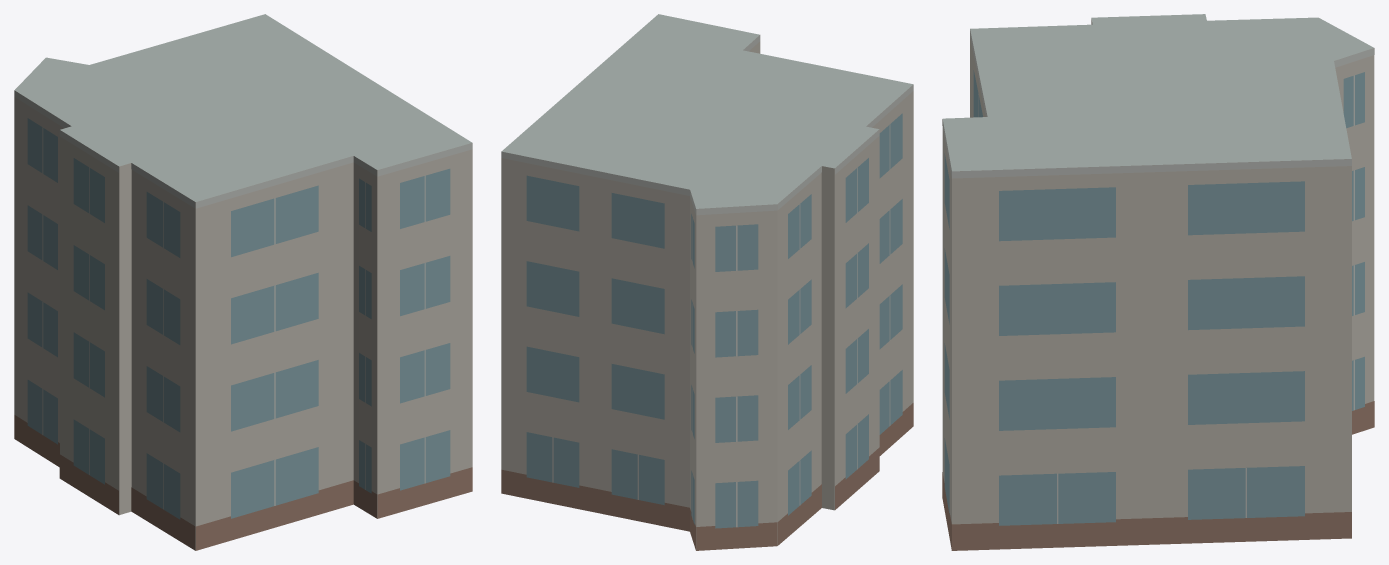
The model's file is survey-upis-32475010.glb.
3 views of the same model, side by side, from view 1: azimuth 30°, elevation 25°; view 2: azimuth 150°, elevation 25°; view 3: azimuth 270°, elevation 25° (orthographic). The views are drawn at different scales.
Parts seen in each view (by area): view 1: survey-upis-32475010.tmp; view 2: survey-upis-32475010.tmp; view 3: survey-upis-32475010.tmp.
Boxes of the visible parts, <box> form: survey-upis-32475010.tmp: <box>14,14,472,550</box>; survey-upis-32475010.tmp: <box>501,14,913,550</box>; survey-upis-32475010.tmp: <box>942,14,1374,550</box>.
Bounding box in the file's own units: 11.57 × 13 × 13.42.
